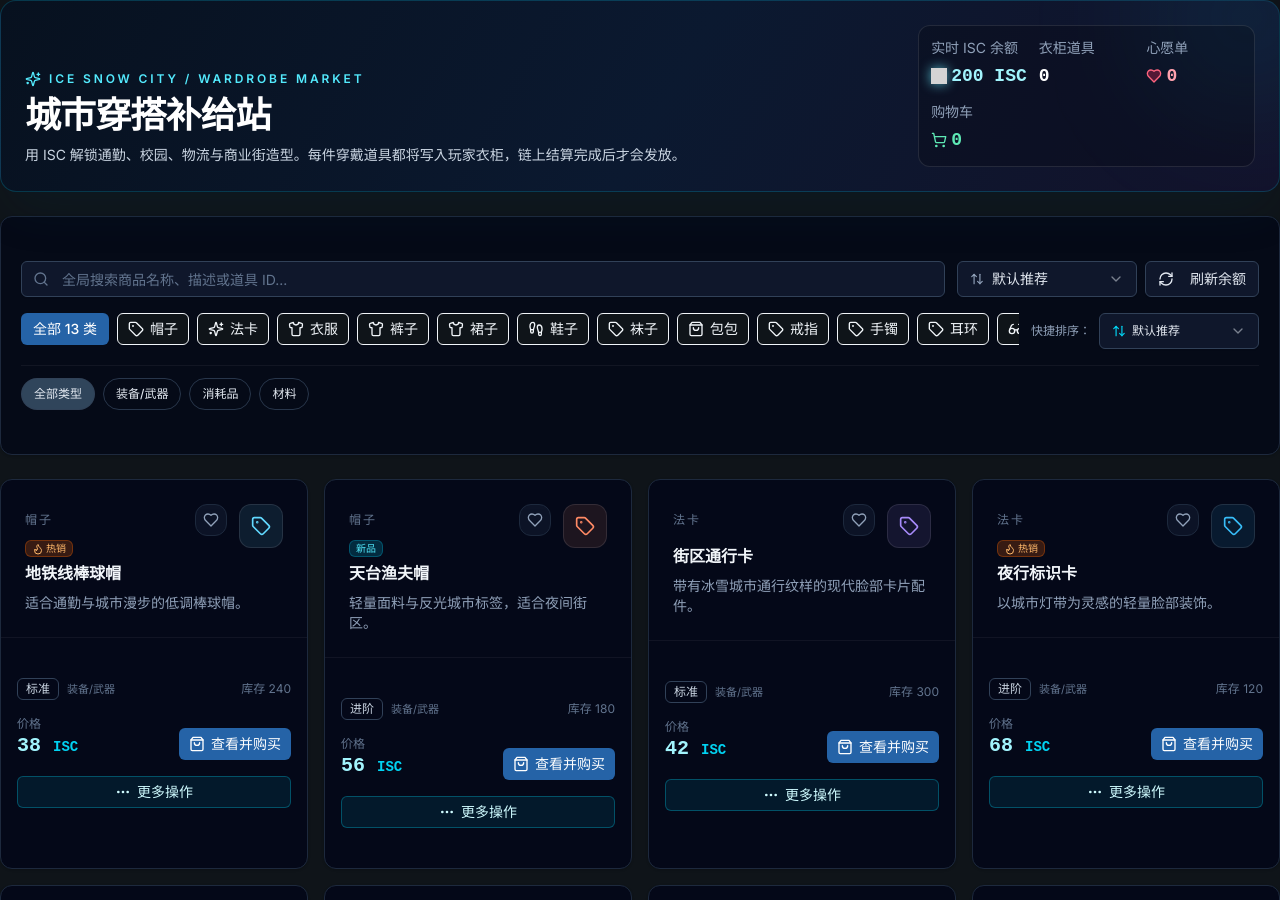
Test: GameItemShop › performs real-time global search and clears query with clear button
Type "天台渔夫帽" into the field named "搜索商城道具".
click(483, 279); type("天台渔夫帽")  # box [21,261,945,297]
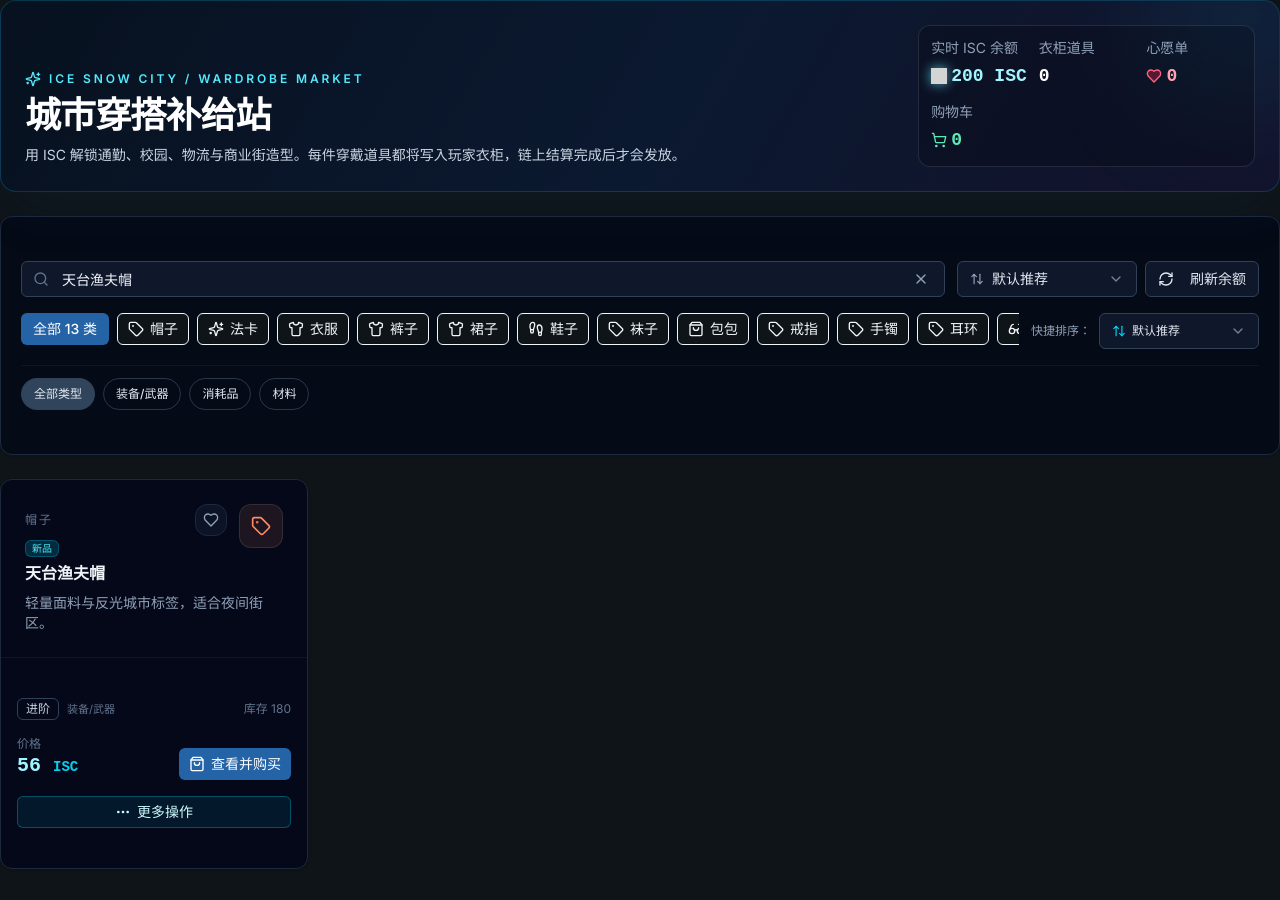
Check: the text "天台渔夫帽" is shown, box [25,563,105,583]
Check: the button "地铁线棒球帽" is gone
Check: the button named "清除搜索关键词" is shown
Click the button named "清除搜索关键词".
click(921, 279)  # box [909,267,933,291]
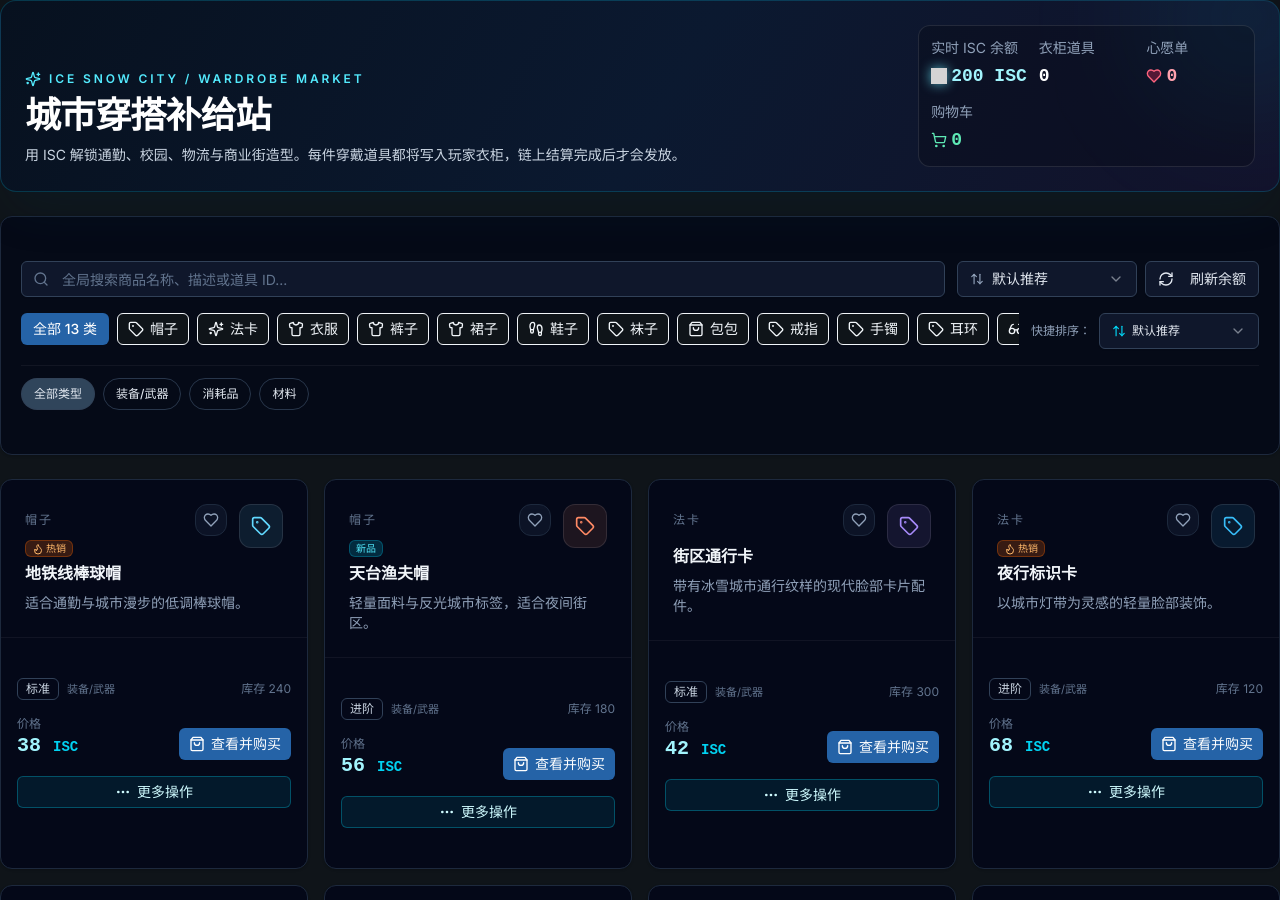
Check: the field named "搜索商城道具" is empty, box [21,261,945,297]
Check: the text "地铁线棒球帽" is shown, box [25,563,121,583]
